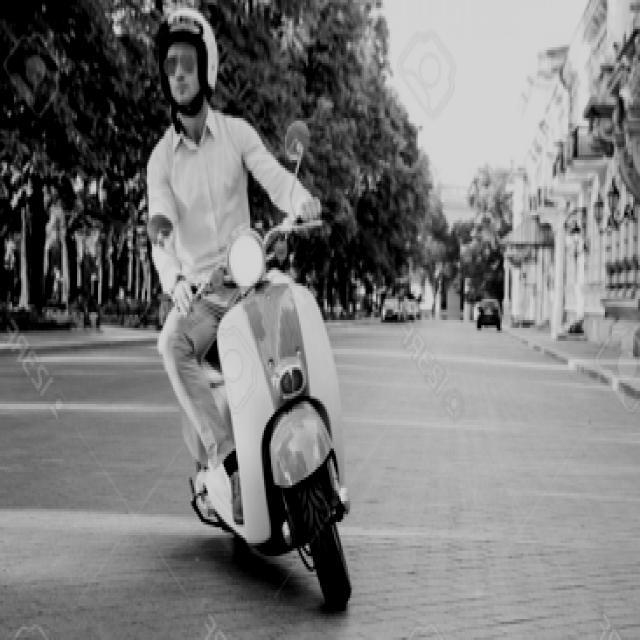Helmet: (154, 2, 224, 118)
